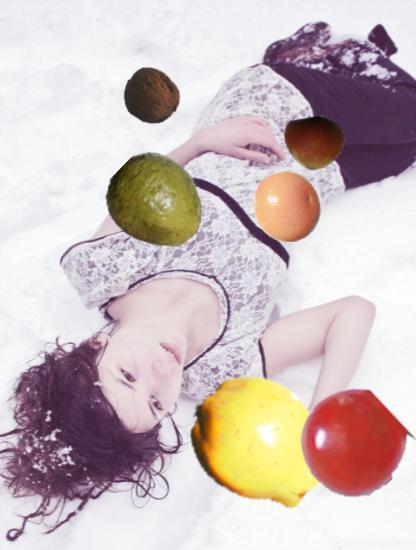Grapefruit: (252, 171, 324, 243)
Guava: (106, 153, 208, 255)
Nut: (285, 113, 346, 174)
Quince: (187, 369, 335, 517)
Redcurrant: (298, 390, 406, 498)
Walnut: (123, 68, 180, 125)
